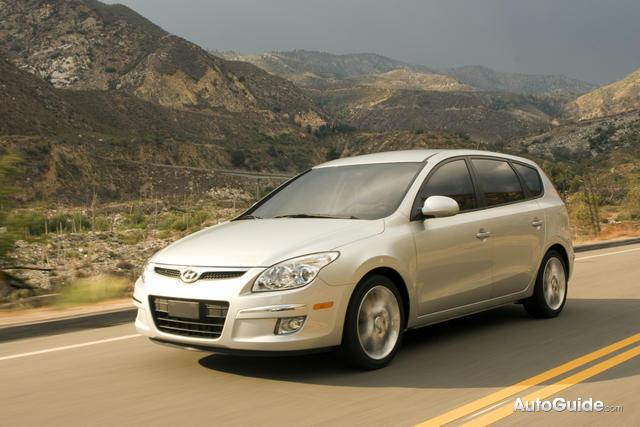car: (134, 137, 580, 368)
